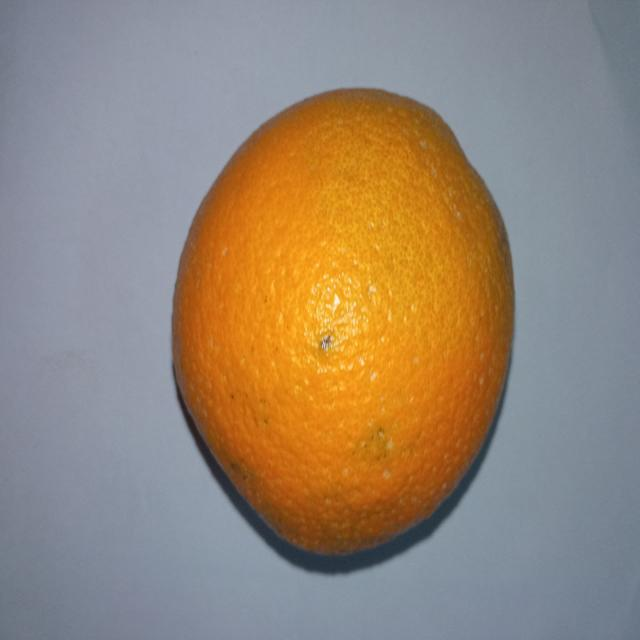fresh_orange: (171, 87, 513, 560)
